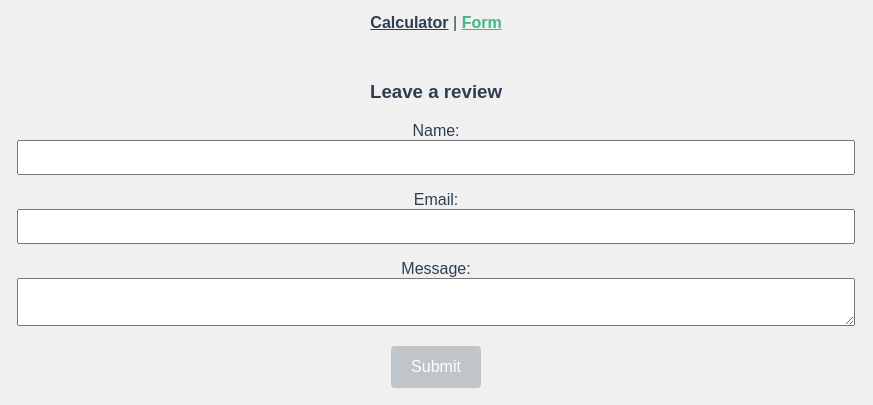
Contact Form › Possible to submit with everything filled in, but impossible with email being blank
The image size is (873, 405).
Type "Ola Nordmann" into the field with id "name" at (437, 158), box [17,140,856,175]
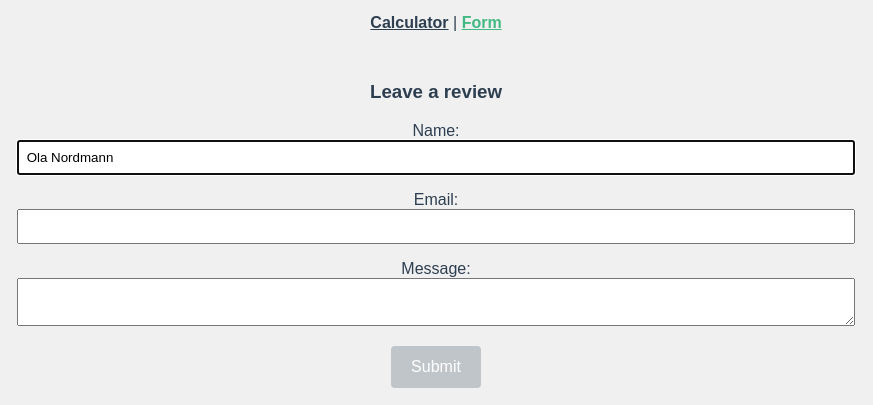
Type "ola-normann@gmail.com" into the field with id "email" at (437, 227), box [17,209,856,244]
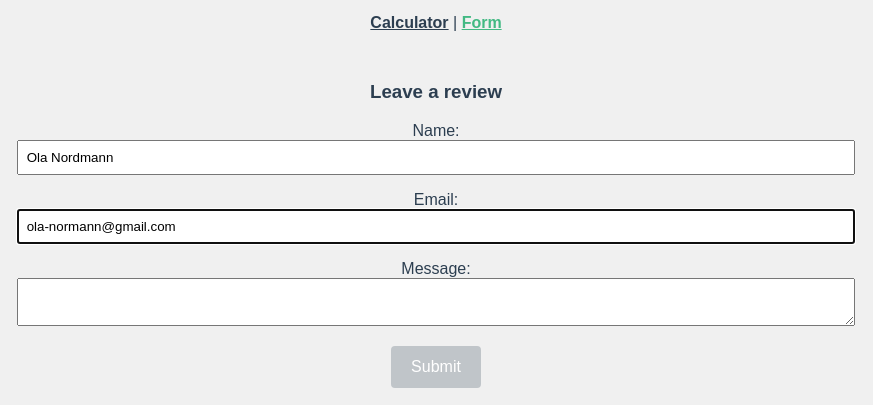
Type "Fredager er for TACO!" into the text box with id "message" at (437, 302), box [17,278,856,326]
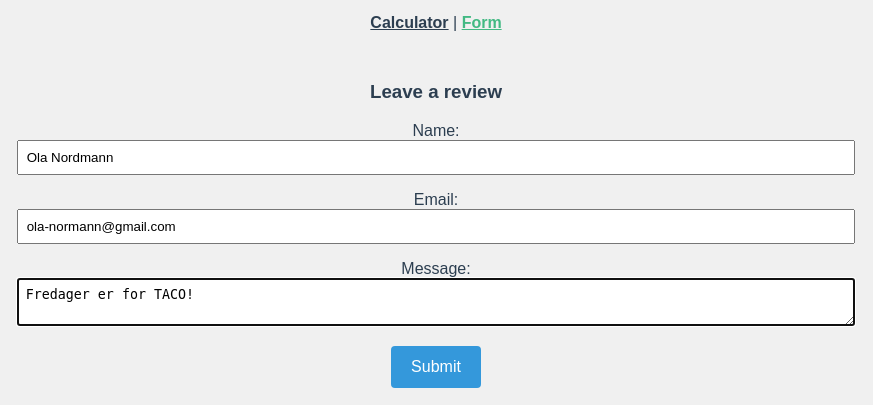
Check: the element with class "submit-button" is enabled
Clear the field with id "email" at (437, 227), box [17,209,856,244]
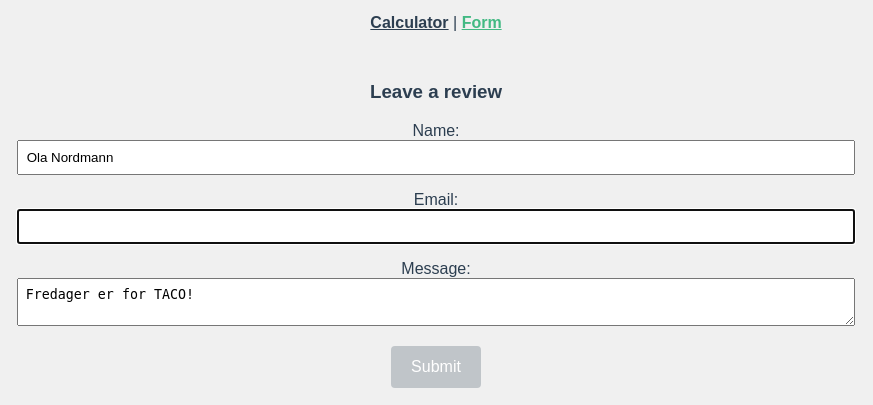
Check: the button with class "submit-button" is disabled, box [391,346,481,388]
